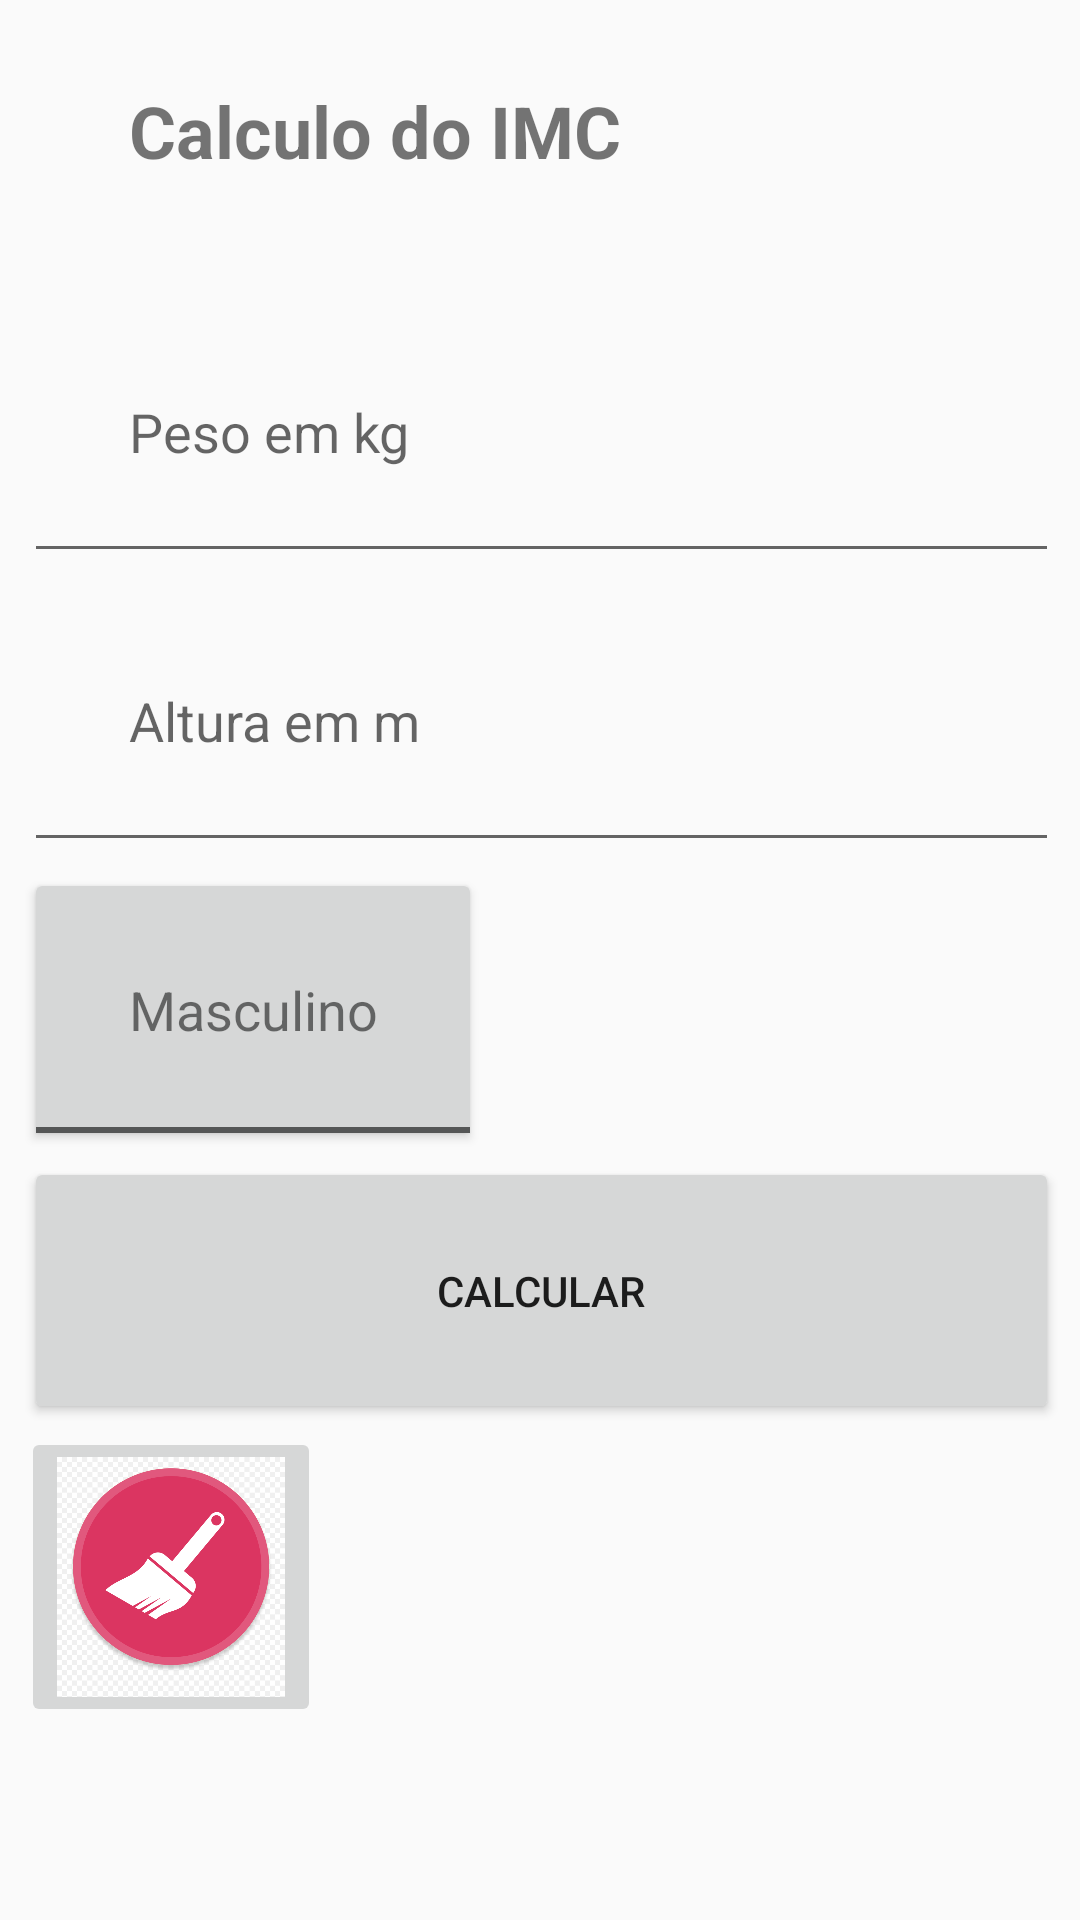

Locate icon controls on the screen. Image size 1080 x 1920, boxes as detection(x1, y1, x2, y2).
Limpar: detection(33, 1445, 309, 1709)
